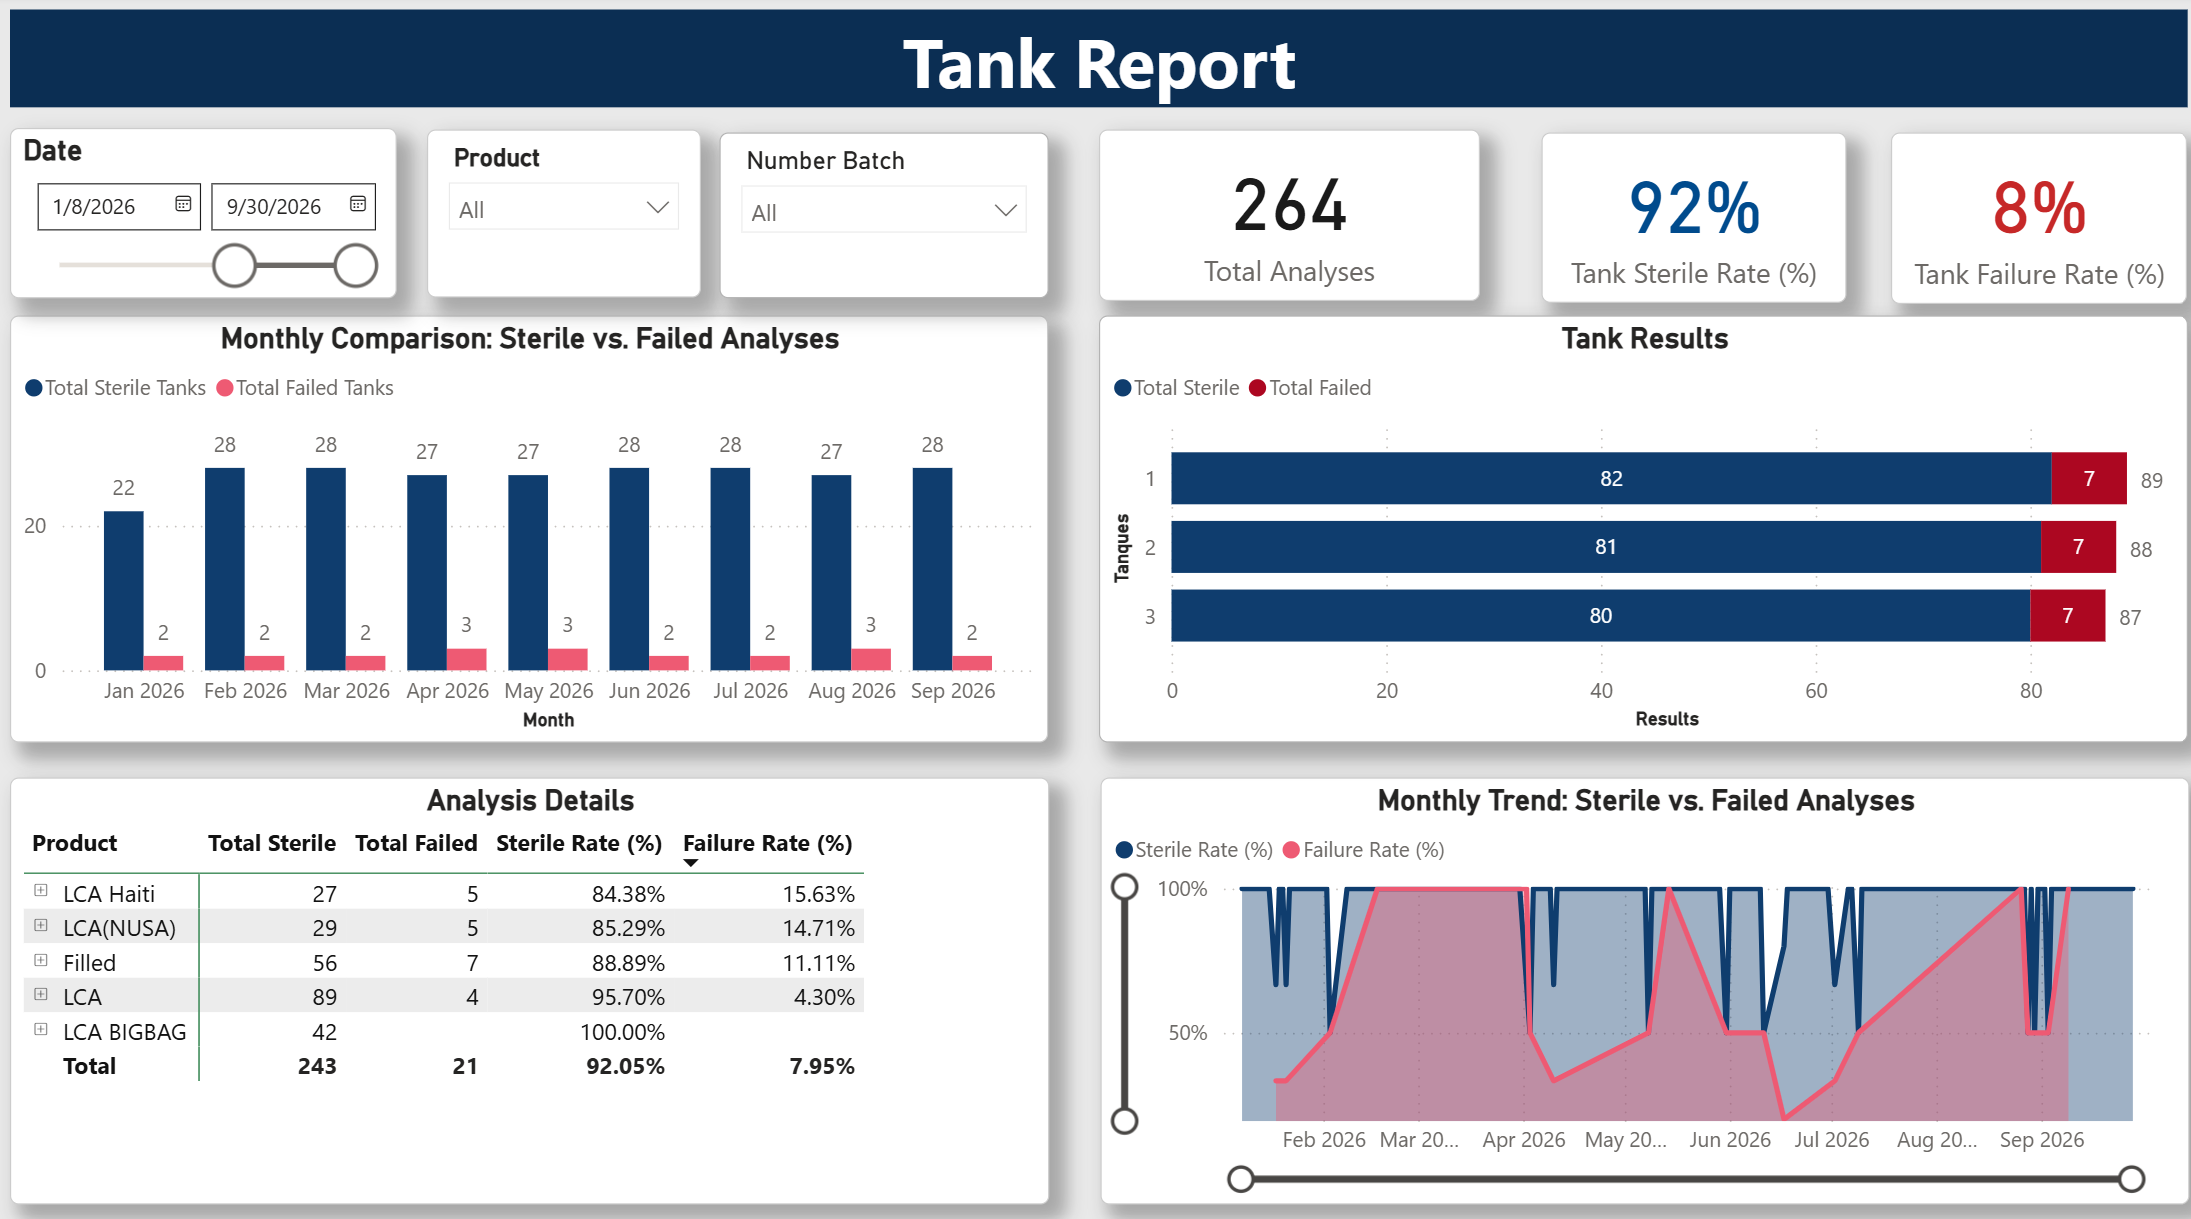

This screenshot's page, from the dashboard's own definition file:
{"tool":"powerbi","page":{"name":"TANKS","canvas":[1280,720],"ordinal":3},"visuals":[{"type":"shape","box":[8.9,7.8,1262.2,56.7],"z":0},{"type":"clusteredColumnChart","title":"Monthly Comparison: Sterile vs. Failed Analyses","fields":{"Category":["Dim_Fecha.Mes-Año"],"Y":["Tanques.Total Estériles Tanques","Tanques.Total Estropeados Tanques"]},"box":[9.1,185,601.2,247.6],"z":2000},{"type":"slicer","title":"Date","fields":{"Values":["Dim_Fecha.Date"]},"box":[8.8,76.2,223.8,98.8],"z":3000},{"type":"slicer","fields":{"Values":["DimProducto.Producto"]},"box":[250,77.5,158.8,97.5],"z":4000},{"type":"areaChart","title":"Monthly Trend: Sterile vs. Failed Analyses","fields":{"Category":["Dim_Fecha.Date.Variación.Date Hierarchy.Year","Dim_Fecha.Date.Variación.Date Hierarchy.Month","Dim_Fecha.Date.Variación.Date Hierarchy.Day"],"Y":["Tanques.% Estériles Mes Tanques","Tanques.% Estropeados Mes Tanques"]},"box":[640,453,631,247],"z":5000},{"type":"card","fields":{"Values":["Tanques.Total Análisis Tanques"]},"box":[639.7,77,220.8,99.6],"z":6000},{"type":"card","fields":{"Values":["Tanques.% Estériles Tanques"]},"box":[896,79.2,176.8,98.5],"z":7000},{"type":"card","fields":{"Values":["Tanques.% Estropeado Tanques"]},"box":[1098.6,79.2,172.2,99.5],"z":8000},{"type":"barChart","title":"Tank Results","fields":{"Category":["Tanques.Tanque"],"Y":["Tanques.Total Estériles Tanques","Tanques.Total Estropeados Tanques"]},"box":[639.7,184.8,631.4,247.4],"z":9000},{"type":"slicer","fields":{"Values":["Tanques.Lote"]},"box":[419.6,79.3,190.9,95.9],"z":10000},{"type":"pivotTable","title":"Analysis Details","fields":{"Rows":["Tanques.Producto","Tanques.Lote"],"Values":["Tanques.Total Estériles Tanques","Tanques.Total Estropeados Tanques","Tanques.% Estériles Mes Tanques","Tanques.% Estropeados Mes Tanques"]},"box":[9,453,602,247],"z":11000}]}

Visuals, with their boxes in screenshot pixels (x1, y1, x2, y2), scaled from the page's 1280x720 canvas onto the 2191x1219 screenshot:
shape: bbox=[15, 13, 2176, 109]
"Monthly Comparison: Sterile vs. Failed Analyses" clusteredColumnChart: bbox=[16, 313, 1045, 732]
"Date" slicer: bbox=[15, 129, 398, 296]
slicer - DimProducto.Producto: bbox=[428, 131, 700, 296]
"Monthly Trend: Sterile vs. Failed Analyses" areaChart: bbox=[1096, 767, 2176, 1185]
card - Tanques.Total Análisis Tanques: bbox=[1095, 130, 1473, 299]
card - Tanques.% Estériles Tanques: bbox=[1534, 134, 1836, 301]
card - Tanques.% Estropeado Tanques: bbox=[1880, 134, 2175, 303]
"Tank Results" barChart: bbox=[1095, 313, 2176, 732]
slicer - Tanques.Lote: bbox=[718, 134, 1045, 297]
"Analysis Details" pivotTable: bbox=[15, 767, 1046, 1185]
